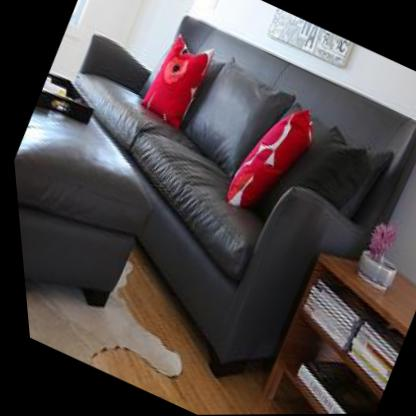Sofa: (0, 0, 416, 416)
Table: (214, 206, 416, 415)
